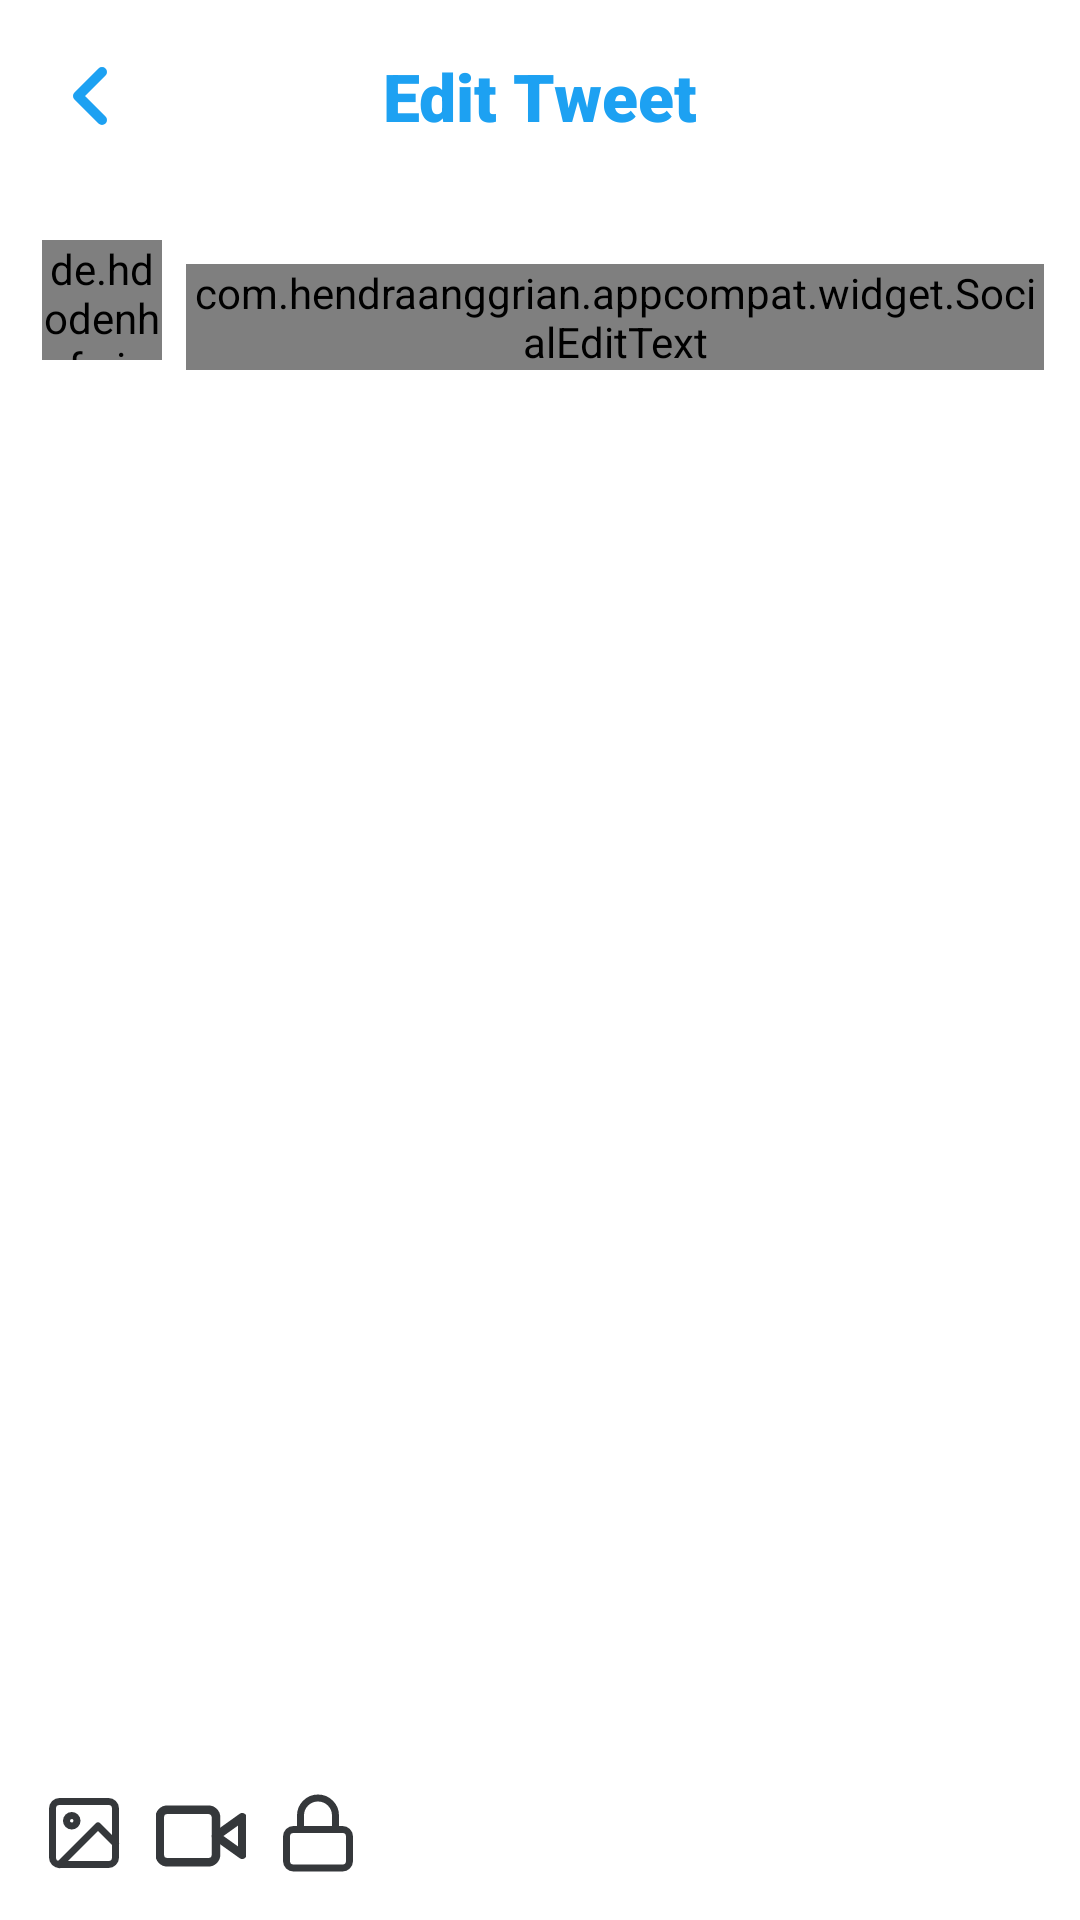

Point at icon controls on the screen. Image size 1080w x 1920h, points as point (x, y).
back: point (90, 96)
lock: point (318, 1833)
video: point (201, 1836)
